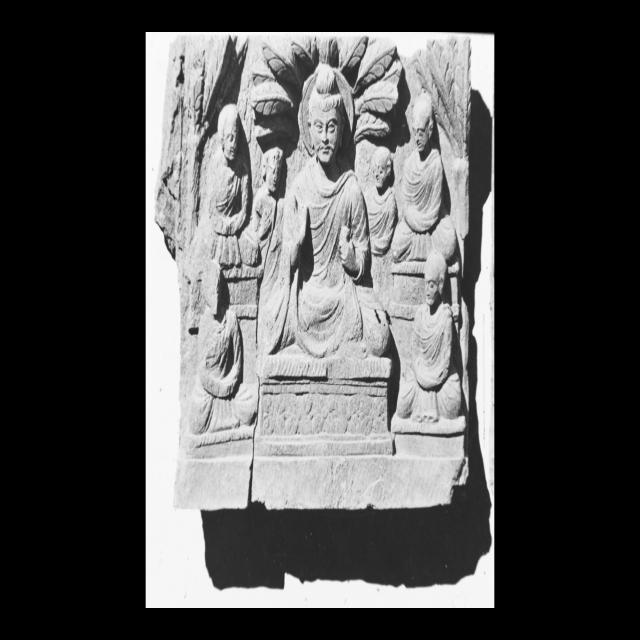buddha-sitting: (255, 62, 391, 456)
